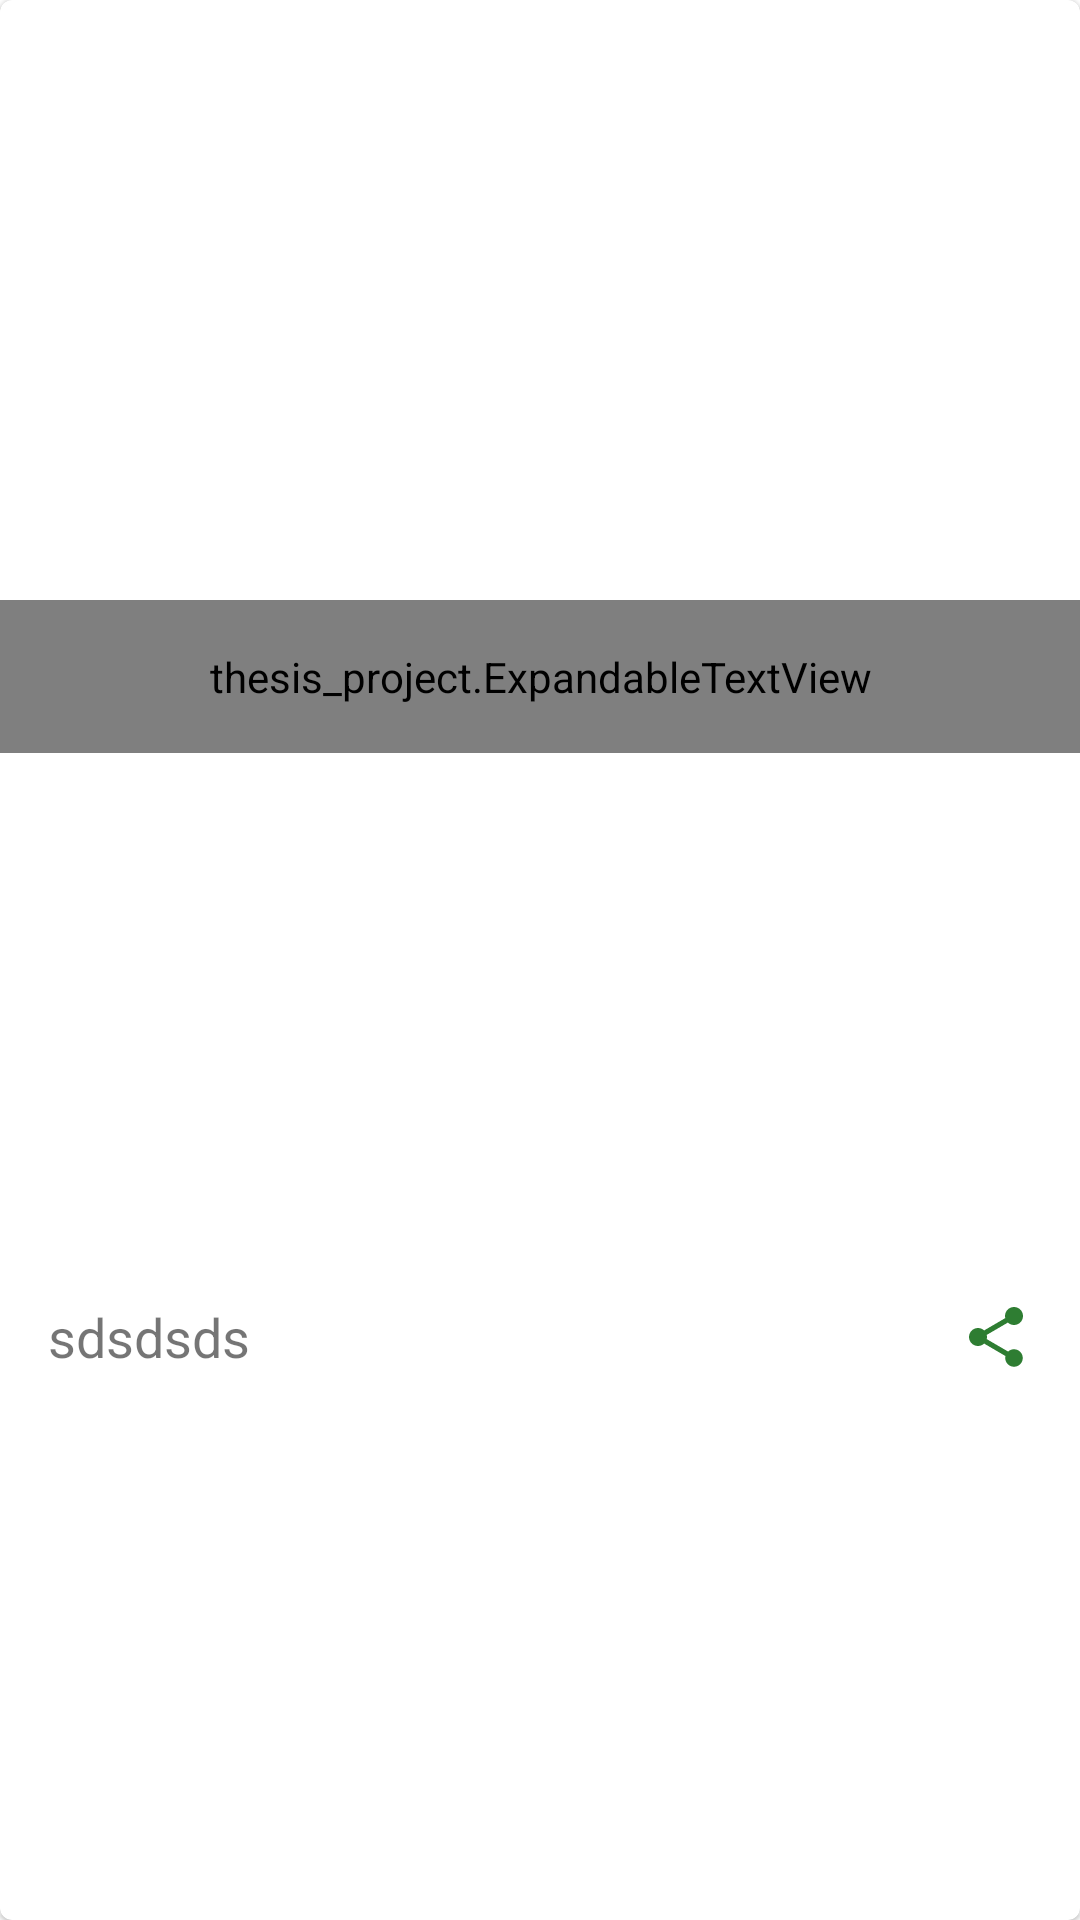

Icons on this 1080x1920 Android screen, each with the point to tap as point (x, y):
share: point (996, 1337)
